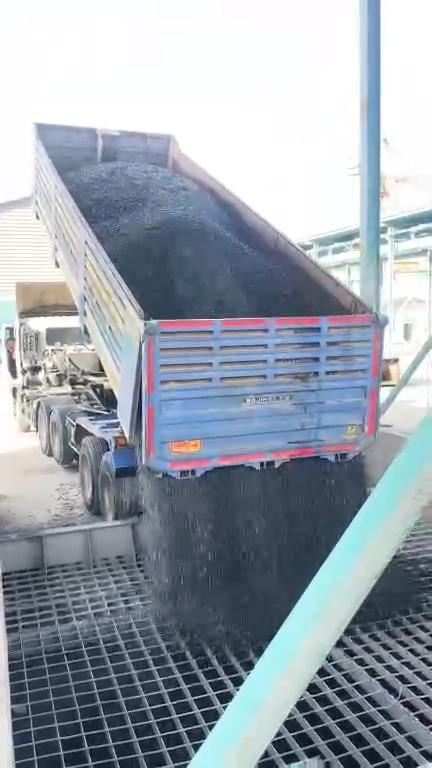gravel: (142, 457, 364, 645), (66, 163, 334, 318), (356, 561, 419, 622)
